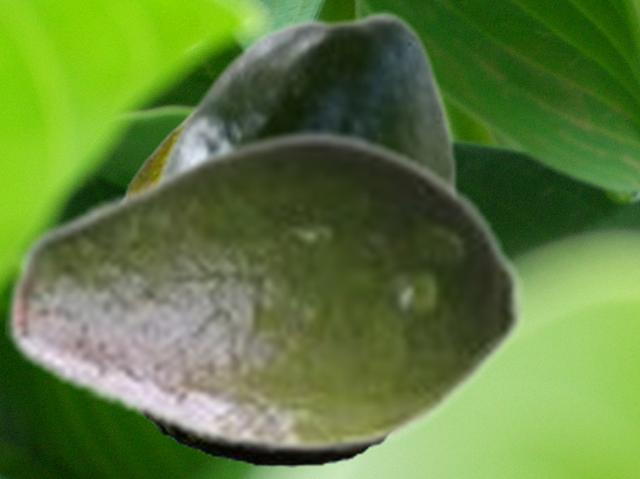avocado: (5, 128, 527, 457), (120, 108, 377, 466), (150, 9, 457, 185)
